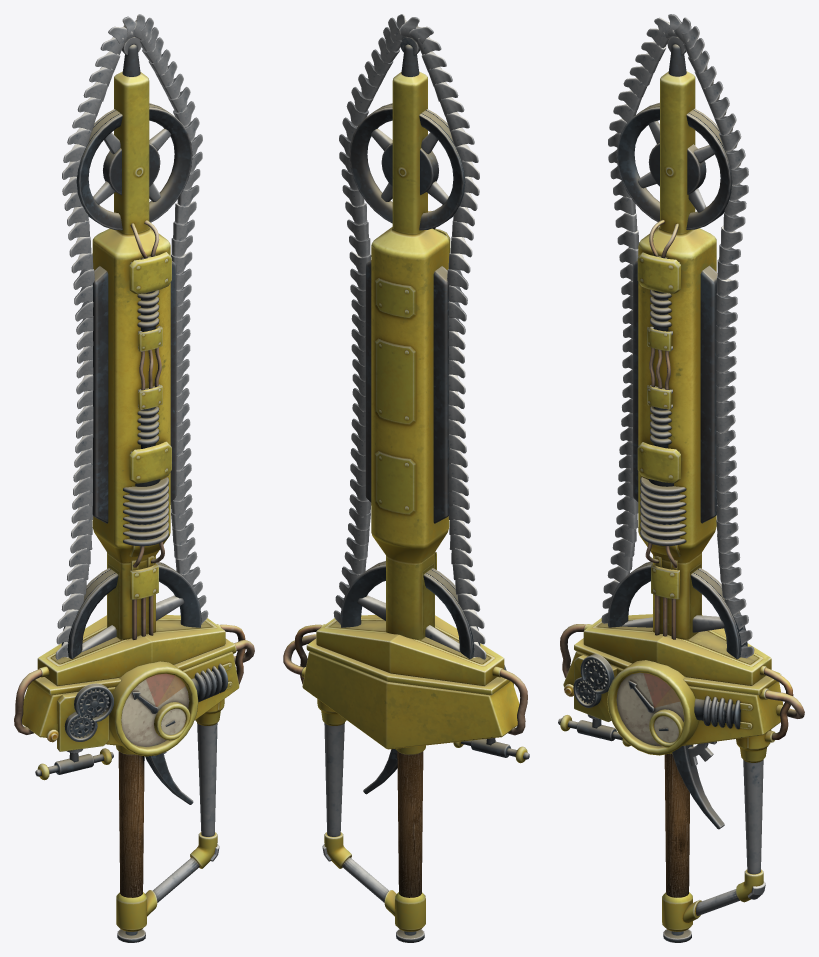
Rendered from sm_sword_36.gltf.
3 views of the same model, side by side, from view 1: azimuth 30°, elevation 25°; view 2: azimuth 150°, elevation 25°; view 3: azimuth 330°, elevation 25° (orthographic).
Visible parts, largest first — view 1: sm_sword_36; view 2: sm_sword_36; view 3: sm_sword_36.
Boxes of the visible parts, x1,y1,x2,y2 form: sm_sword_36: (14,14,254,942); sm_sword_36: (283,14,529,942); sm_sword_36: (558,14,804,942).
Size of the model in its own units: 0.4083 by 1.5 by 0.1513.
Materials: 1 (1 with a texture image).
